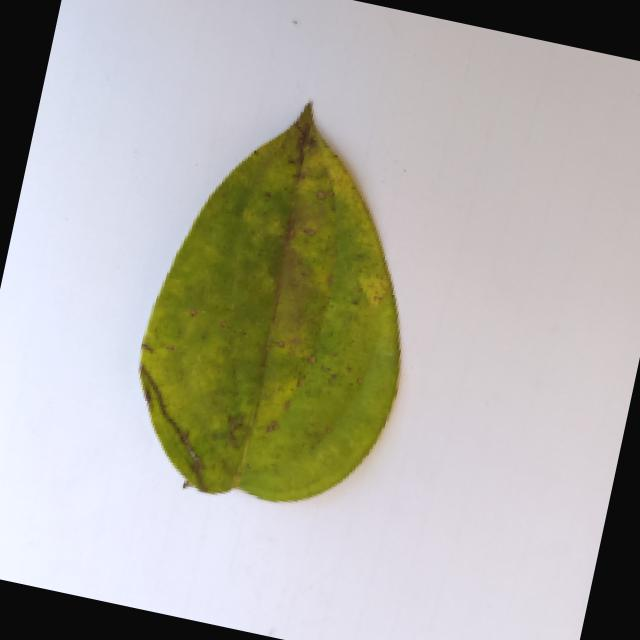slow-decline: (95, 81, 458, 546)
